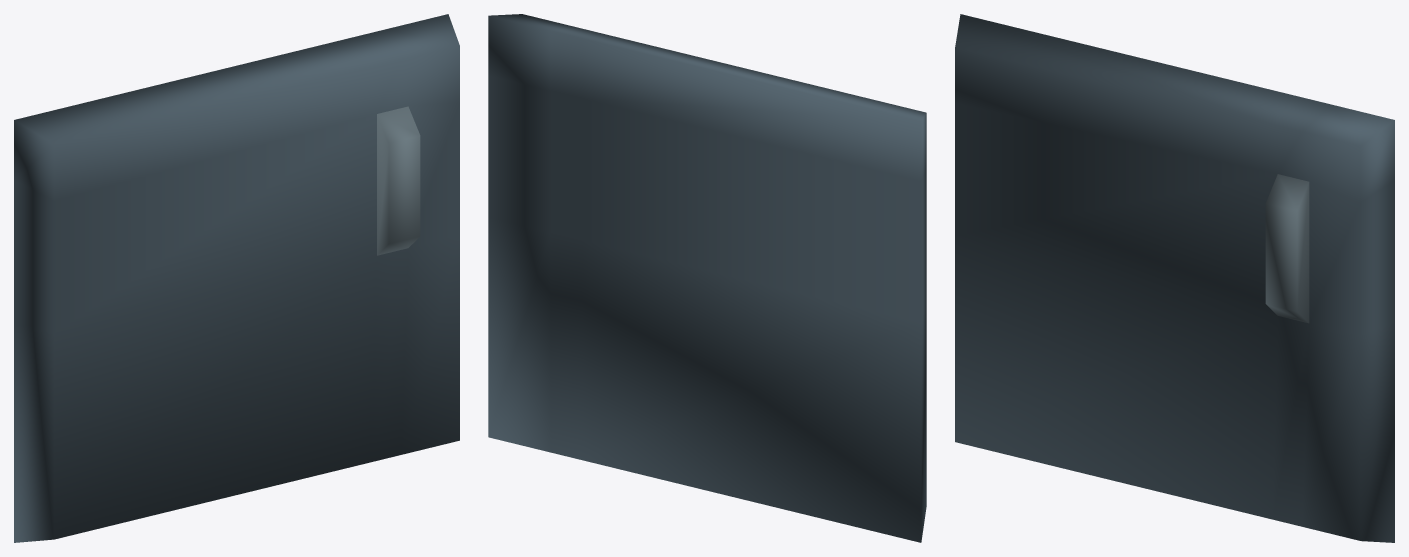
The model's file is KitchenUnitsDoorRight_kitchen_v1.fbx.
The picture shows the model from 3 angles, left to right: view 1: azimuth 30°, elevation 25°; view 2: azimuth 150°, elevation 25°; view 3: azimuth 330°, elevation 25°; orthographic projection.
Parts seen in each view (by area): view 1: Cube.002; view 2: Cube.002; view 3: Cube.002.
Part boxes in pixels (<box>): Cube.002: <box>14,14,459,542</box>; Cube.002: <box>488,14,926,542</box>; Cube.002: <box>955,14,1394,542</box>.
Bounding box in the file's own units: 60.91 × 56.68 × 8.44.
